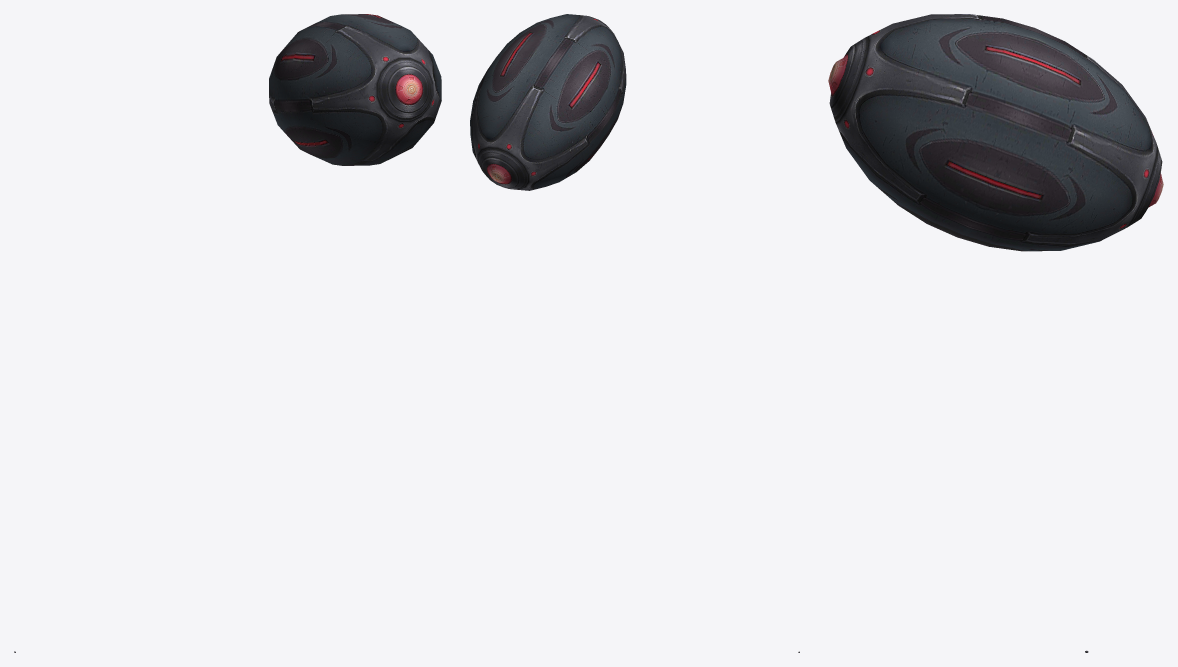
Rendered from Model003_weapons.glb.
3 renders of one model, left to right at view 1: azimuth 30°, elevation 25°; view 2: azimuth 150°, elevation 25°; view 3: azimuth 270°, elevation 25°, orthographic. The views are drawn at different scales.
Visible parts, largest first — view 1: 0019_Model003_6_+DW-weapon.DW-weapon_0.1_16_16_material0019_; view 2: 0019_Model003_6_+DW-weapon.DW-weapon_0.1_16_16_material0019_; view 3: 0019_Model003_6_+DW-weapon.DW-weapon_0.1_16_16_material0019_.
Boxes of the visible parts, bbox=[...] form: 0019_Model003_6_+DW-weapon.DW-weapon_0.1_16_16_material0019_: bbox=[269, 14, 441, 165]; 0019_Model003_6_+DW-weapon.DW-weapon_0.1_16_16_material0019_: bbox=[470, 14, 626, 190]; 0019_Model003_6_+DW-weapon.DW-weapon_0.1_16_16_material0019_: bbox=[828, 14, 1163, 251].
Bounding box in the file's own units: 0.7426 × 1.1 × 0.3961.
Materials: 2 (2 with a texture image).
